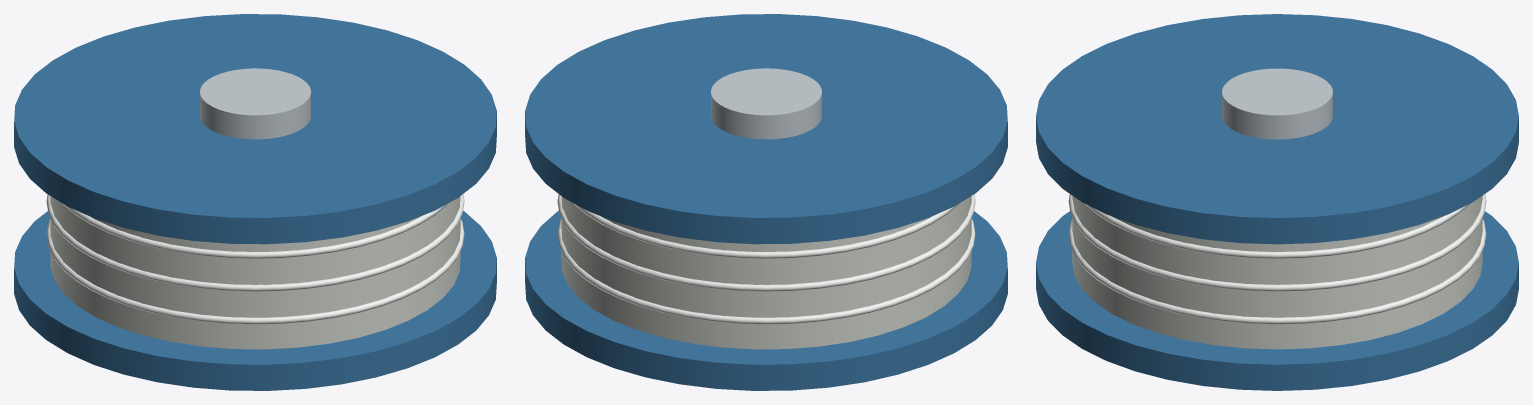
Rendered from squash-club-and-racket-workshop-string-reel-36c456e5__29756.glb.
3 renders of one model, left to right at view 1: azimuth 30°, elevation 25°; view 2: azimuth 150°, elevation 25°; view 3: azimuth 270°, elevation 25°, orthographic.
Visible parts, largest first — view 1: string-reel; view 2: string-reel; view 3: string-reel.
Boxes of the visible parts, left/top/right/bottom form: string-reel: left=14, top=14, right=496, bottom=390; string-reel: left=525, top=14, right=1007, bottom=390; string-reel: left=1036, top=14, right=1518, bottom=390.
Bounding box in the file's own units: 0.2 × 0.09 × 0.2.
